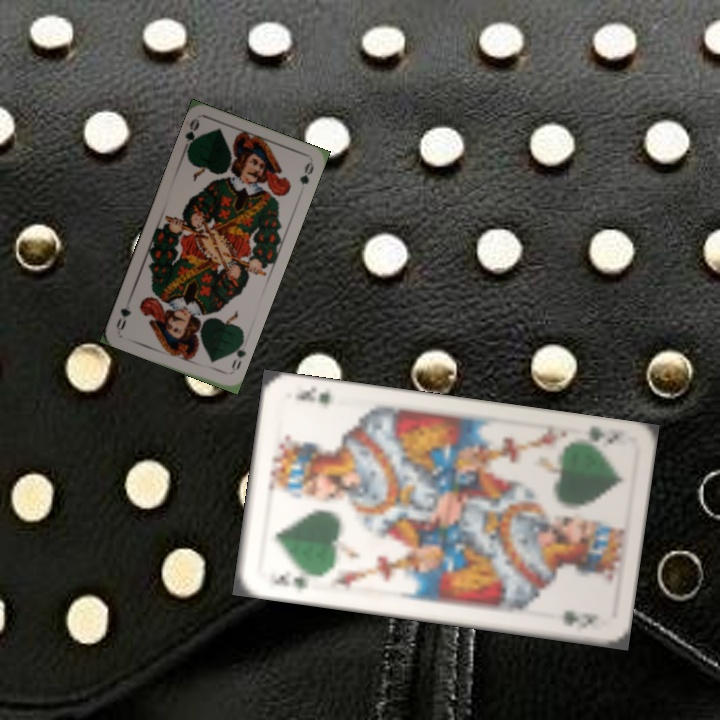GK: (265, 568, 312, 593), (584, 423, 621, 447)
GO: (179, 115, 203, 157), (225, 336, 249, 376)
